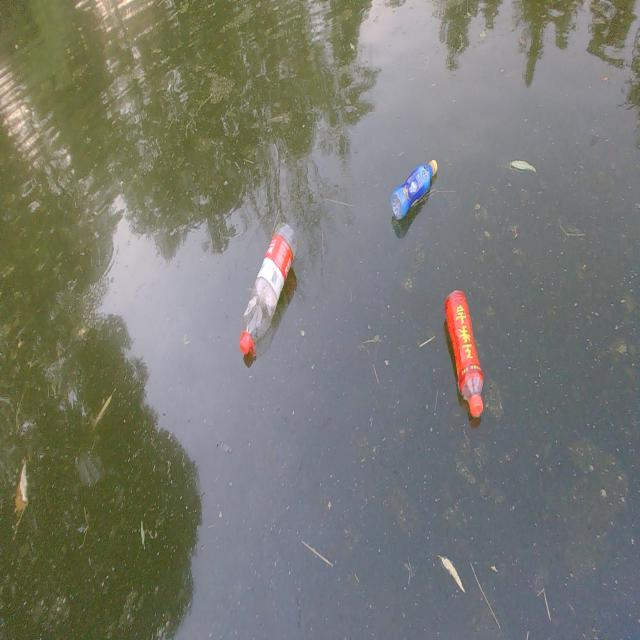bottle: (217, 192, 308, 369), (422, 268, 492, 428), (379, 146, 450, 234)
